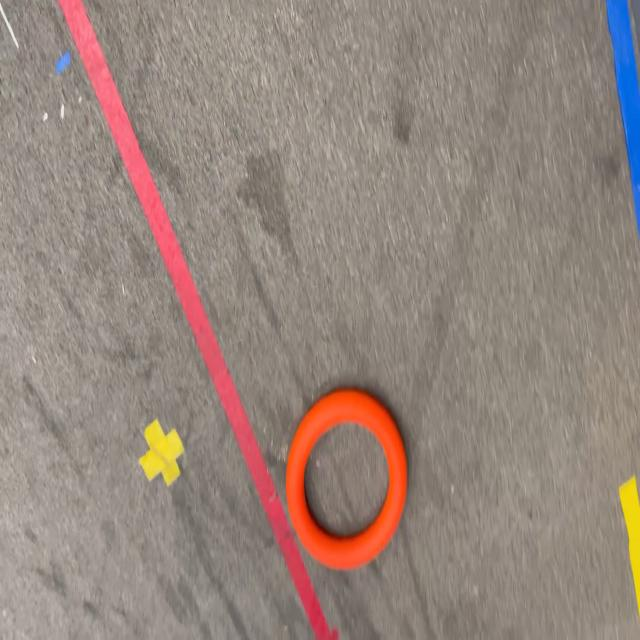note: (287, 388, 407, 571)
